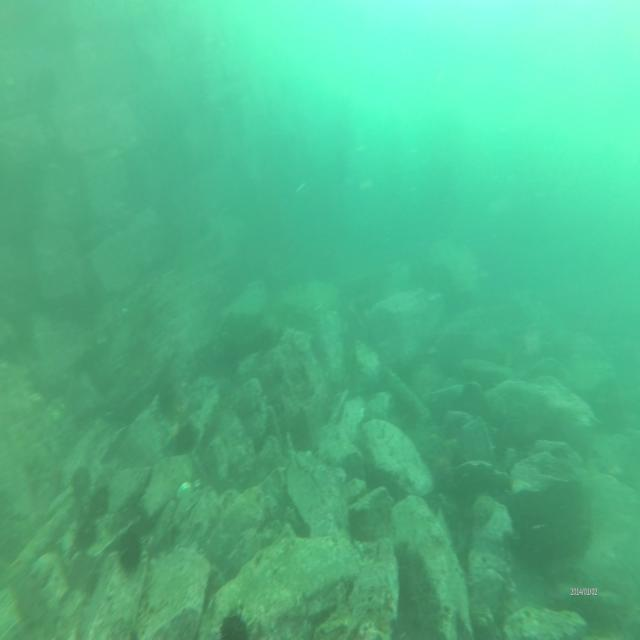echinus: (218, 608, 251, 640), (117, 529, 140, 571), (74, 511, 97, 548), (156, 379, 178, 414), (89, 484, 110, 517), (72, 465, 92, 499), (180, 421, 201, 452)
starfish: (162, 418, 182, 447)
